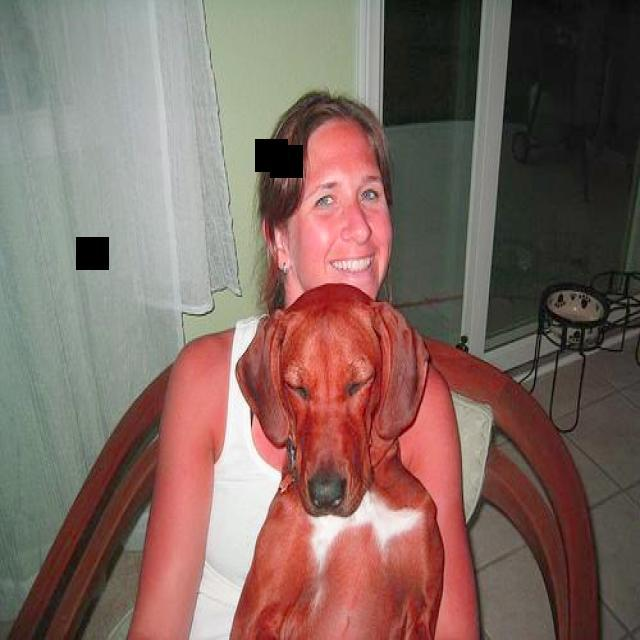adult_dog: (230, 284, 445, 640)
